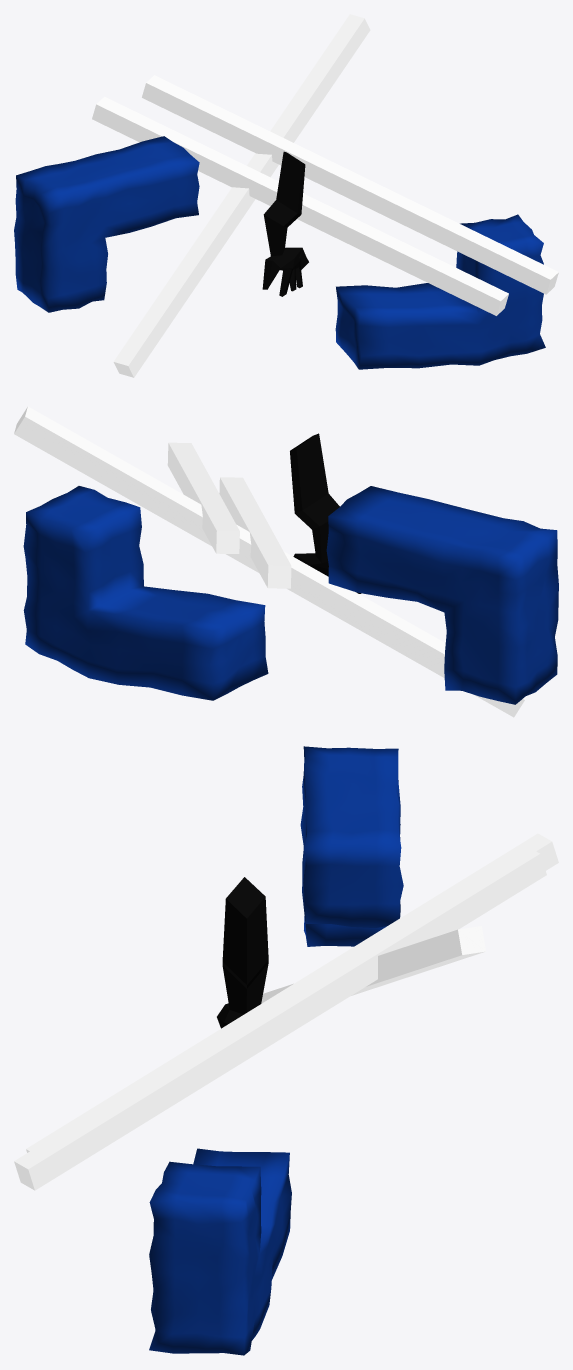
File: arm.gltf
3 views of the same model, one above another, from view 1: azimuth 30°, elevation 25°; view 2: azimuth 150°, elevation 25°; view 3: azimuth 270°, elevation 25° (orthographic). The views are drawn at different scales.
Visible parts, largest first — view 1: Cube.002, Cube.001, Cube; view 2: Cube.002, Cube.001, Cube; view 3: Cube.002, Cube.001, Cube.
Part boxes in pixels (x1,y1,x2,y2): Cube.002: [14, 136, 545, 369]; Cube.001: [92, 14, 558, 377]; Cube: [262, 151, 308, 296]; Cube.002: [23, 486, 558, 704]; Cube.001: [14, 406, 525, 717]; Cube: [290, 433, 361, 593]; Cube.002: [149, 746, 403, 1355]; Cube.001: [14, 833, 558, 1190]; Cube: [217, 877, 268, 1028].
Size of the model in its own units: 15.66 by 9.11 by 11.67.
